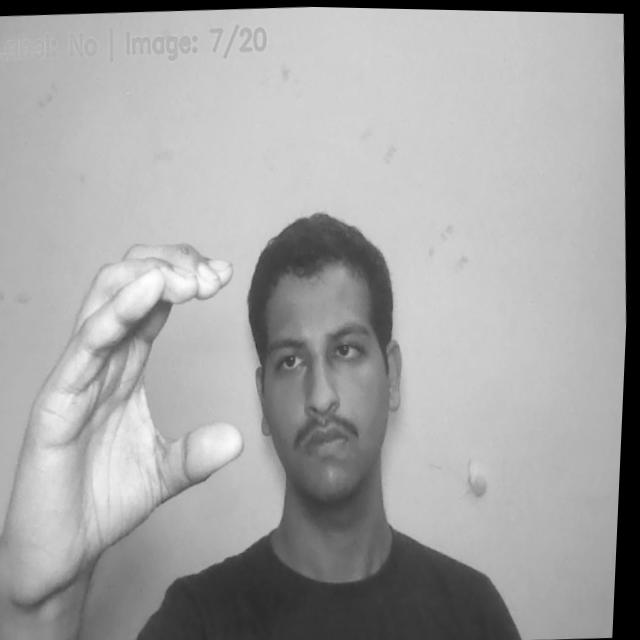No: (0, 233, 258, 597)
